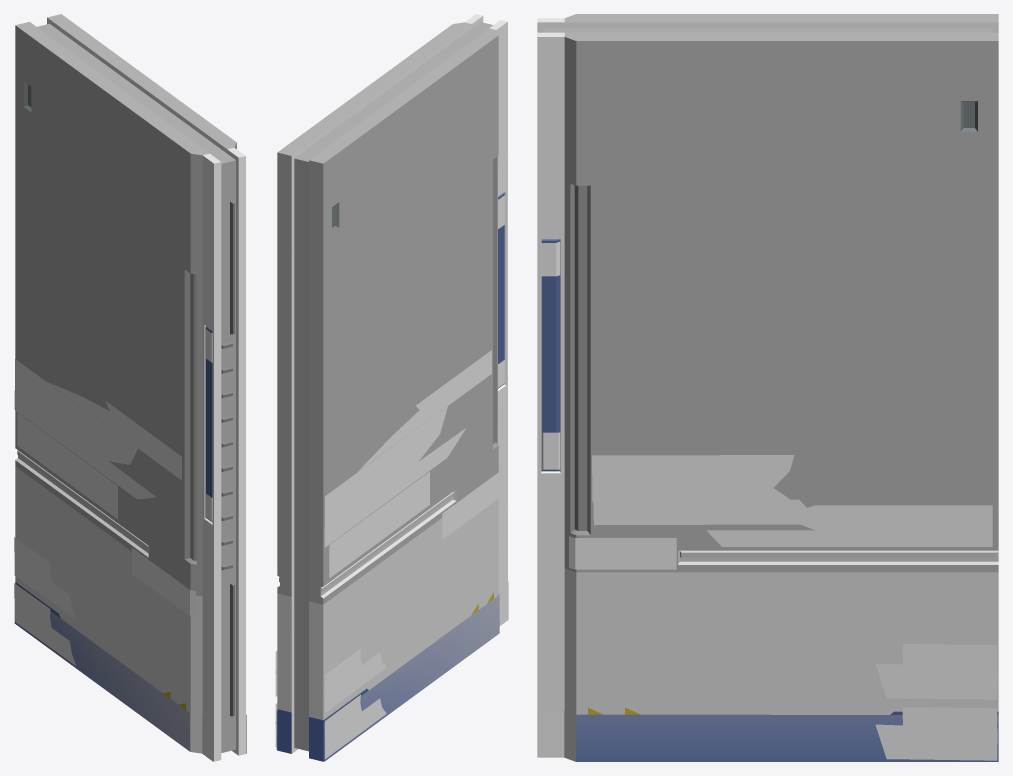
The picture shows the model from 3 angles, left to right: view 1: azimuth 30°, elevation 25°; view 2: azimuth 150°, elevation 25°; view 3: azimuth 270°, elevation 25°; orthographic projection. The views are drawn at different scales.
Visible parts, largest first — view 1: SM_H_Small_Door_11; view 2: SM_H_Small_Door_11; view 3: SM_H_Small_Door_11.
Boxes of the visible parts, box(x1,y1,x2,y2) form: SM_H_Small_Door_11: box(14, 14, 246, 761); SM_H_Small_Door_11: box(275, 14, 508, 761); SM_H_Small_Door_11: box(537, 14, 998, 761).
Bounding box in the file's own units: 51.84 × 7.86 × 89.28.
